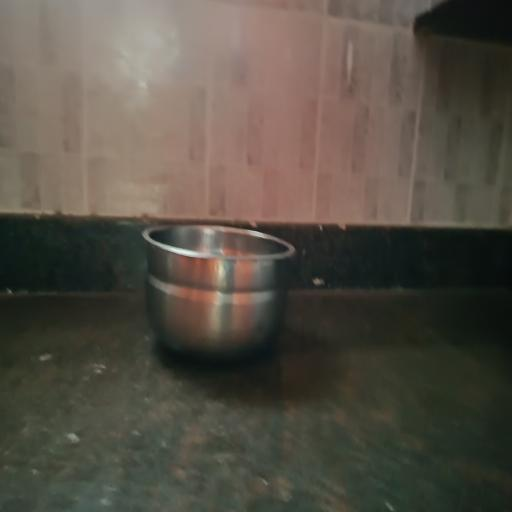vessel: (142, 225, 295, 359)
